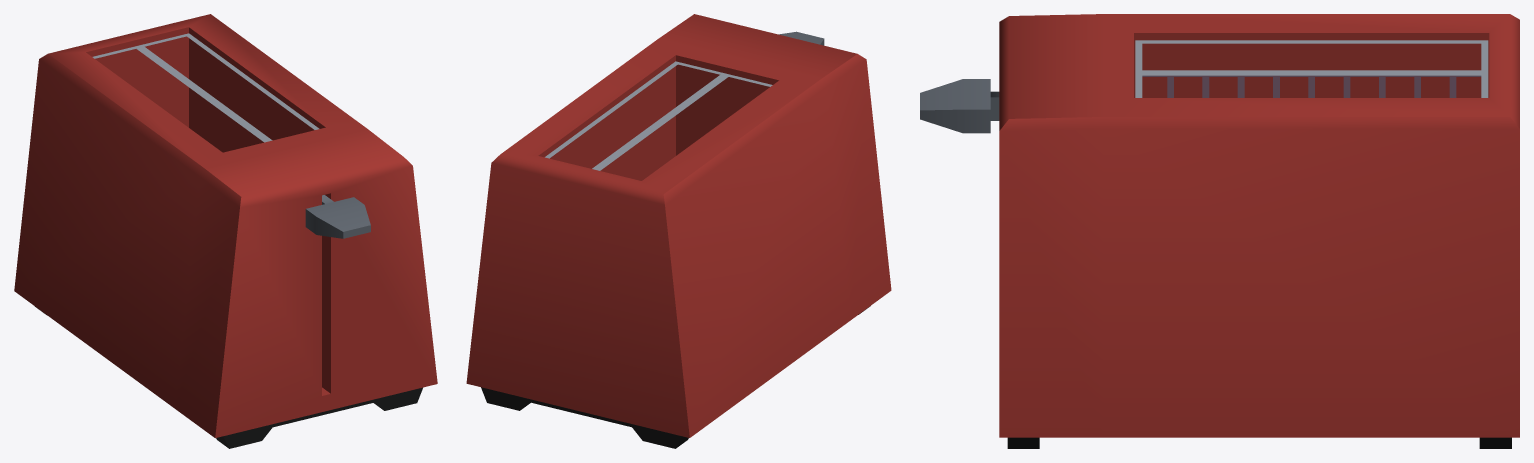
The model's file is toaster.glb.
3 renders of one model, left to right at view 1: azimuth 30°, elevation 25°; view 2: azimuth 150°, elevation 25°; view 3: azimuth 270°, elevation 25°, orthographic. The views are drawn at different scales.
Visible parts, largest first — view 1: MWC_toaster; view 2: MWC_toaster; view 3: MWC_toaster.
Boxes of the visible parts, box(x1,y1,x2,y2) form: MWC_toaster: box(14, 14, 437, 448); MWC_toaster: box(466, 14, 891, 448); MWC_toaster: box(920, 14, 1519, 448).
Bounding box in the file's own units: 0.1554 × 0.1669 × 0.28.
Materials: 1 (1 with a texture image).
